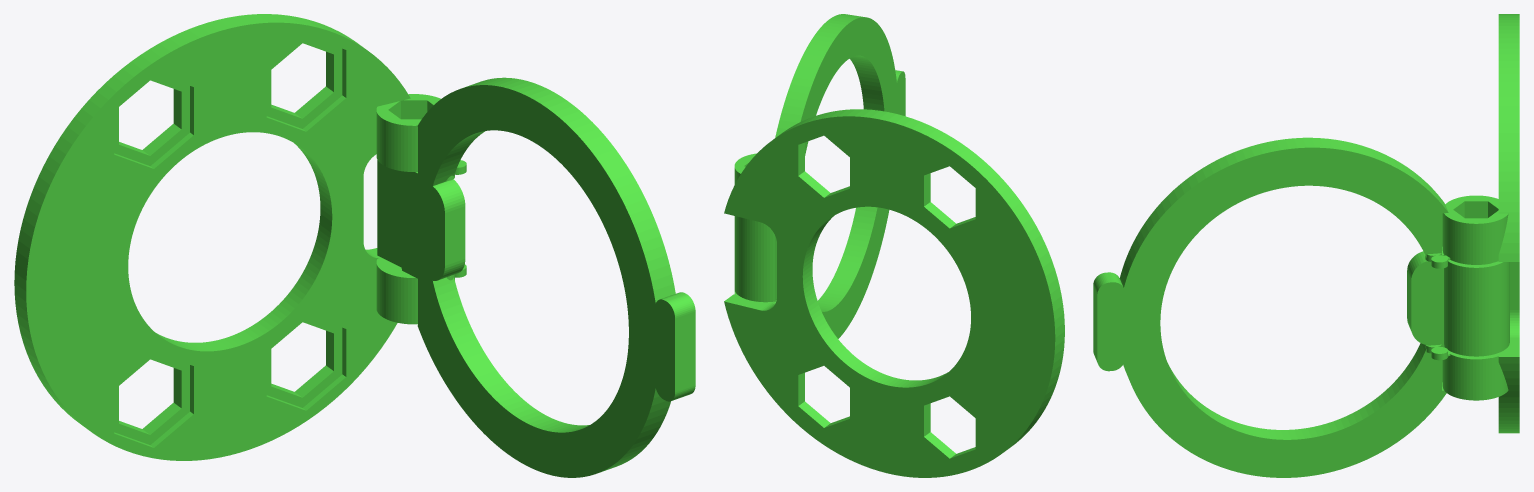
File: ringstand-open.glb
The picture shows the model from 3 angles, left to right: view 1: azimuth 30°, elevation 25°; view 2: azimuth 150°, elevation 25°; view 3: azimuth 270°, elevation 25°; orthographic projection. The views are drawn at different scales.
Visible parts, largest first — view 1: 02_RING_AUFGEKLAPPT.stl; view 2: 02_RING_AUFGEKLAPPT.stl; view 3: 02_RING_AUFGEKLAPPT.stl.
Boxes of the visible parts, bbox=[...] form: 02_RING_AUFGEKLAPPT.stl: bbox=[14, 14, 695, 477]; 02_RING_AUFGEKLAPPT.stl: bbox=[724, 14, 1064, 477]; 02_RING_AUFGEKLAPPT.stl: bbox=[1093, 14, 1519, 477].
Size of the model in its own units: 65.27 by 60 by 61.02.
